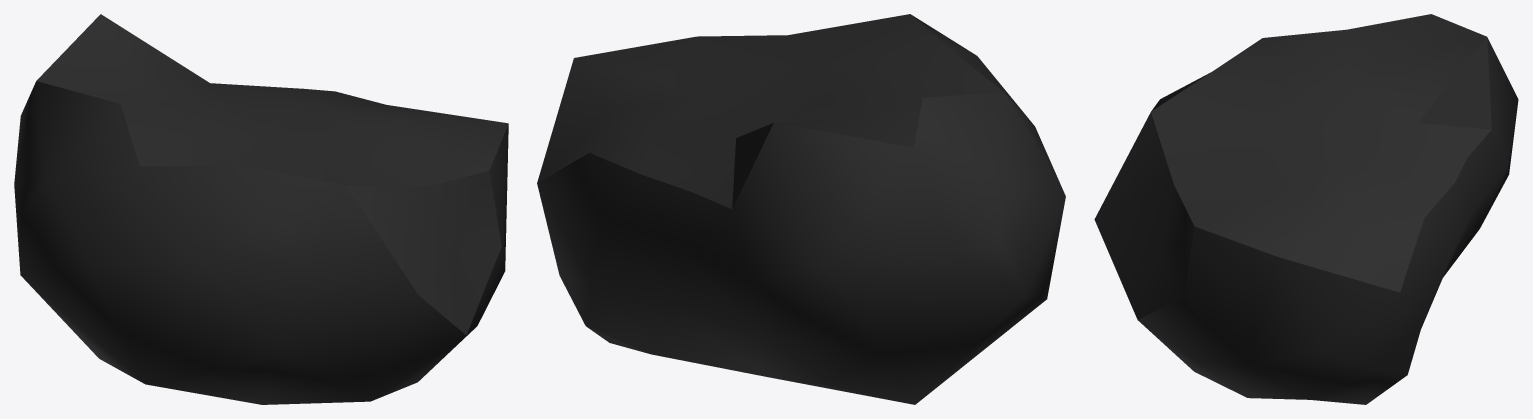
The model's file is rock3dark.FBX.
The picture shows the model from 3 angles, left to right: view 1: azimuth 30°, elevation 25°; view 2: azimuth 150°, elevation 25°; view 3: azimuth 270°, elevation 25°; orthographic projection. The views are drawn at different scales.
Parts seen in each view (by area): view 1: default; view 2: default; view 3: default.
Part boxes in pixels (bbox=[...]): default: bbox=[14, 14, 508, 404]; default: bbox=[537, 14, 1065, 404]; default: bbox=[1094, 14, 1518, 404].
Bounding box in the file's own units: 0.0615 × 0.0392 × 0.0553.
1 material, 1 textured.
